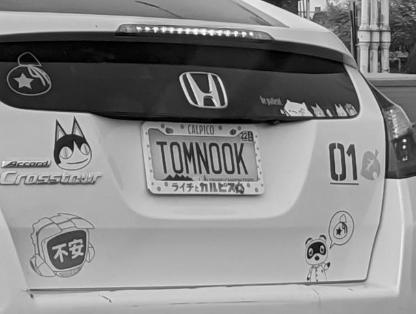license plate: (138, 116, 276, 204)
